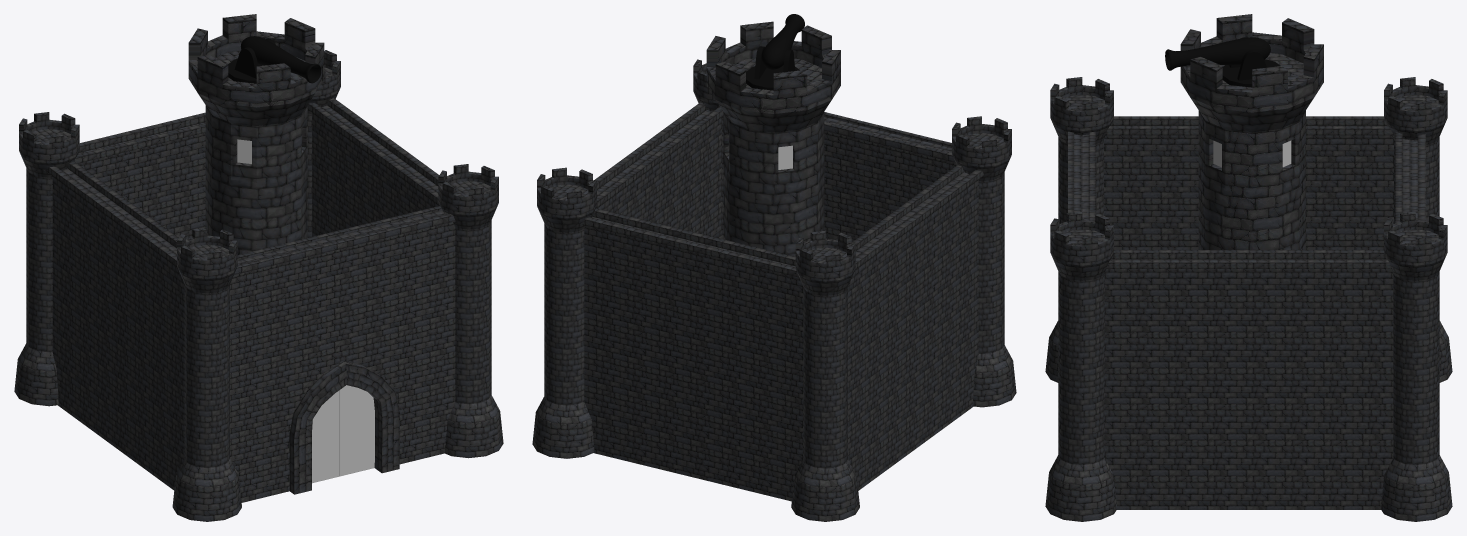
Rendered from maintower.FBX.
The picture shows the model from 3 angles, left to right: view 1: azimuth 30°, elevation 25°; view 2: azimuth 150°, elevation 25°; view 3: azimuth 270°, elevation 25°; orthographic projection. The views are drawn at different scales.
Parts seen in each view (by area): view 1: wall, Box001, Tube002, Tube001, Tube003, Box003, Box002, Tube005, arc, doorLeft, Tube004, Line001; view 2: Box002, Box001, Tube002, Tube005, Tube004, Box003, wall, Tube001, Line001, Tube003, Cylinder002; view 3: Box003, Box001, Tube002, Tube003, Tube004, Tube001, Tube005, Box002, wall, Line001, Line002, Cylinder002.
Part boxes in pixels (x1=…): wall: x1=230, y1=206, x2=455, y2=502; Box001: x1=47, y1=161, x2=184, y2=490; Tube002: x1=188, y1=14, x2=324, y2=254; Tube001: x1=172, y1=227, x2=241, y2=521; Tube003: x1=438, y1=164, x2=503, y2=458; Box003: x1=307, y1=98, x2=439, y2=236; Box002: x1=44, y1=112, x2=205, y2=239; Tube005: x1=14, y1=112, x2=79, y2=406; arc: x1=289, y1=361, x2=399, y2=494; doorLeft: x1=312, y1=385, x2=374, y2=483; Tube004: x1=307, y1=50, x2=340, y2=237; Line001: x1=240, y1=36, x2=321, y2=83; Box002: x1=582, y1=208, x2=802, y2=501; Box001: x1=848, y1=165, x2=983, y2=490; Tube002: x1=706, y1=21, x2=840, y2=256; Tube005: x1=791, y1=230, x2=859, y2=521; Tube004: x1=532, y1=167, x2=596, y2=458; Box003: x1=594, y1=102, x2=723, y2=238; wall: x1=824, y1=112, x2=956, y2=241; Tube001: x1=952, y1=116, x2=1016, y2=407; Line001: x1=761, y1=14, x2=804, y2=69; Tube003: x1=693, y1=59, x2=723, y2=238; Cylinder002: x1=746, y1=65, x2=799, y2=90; Box003: x1=1104, y1=250, x2=1393, y2=509; Box001: x1=1104, y1=116, x2=1393, y2=249; Tube002: x1=1180, y1=14, x2=1323, y2=249; Tube003: x1=1045, y1=211, x2=1116, y2=521; Tube004: x1=1381, y1=211, x2=1452, y2=521; Tube001: x1=1045, y1=77, x2=1113, y2=382; Tube005: x1=1384, y1=77, x2=1452, y2=382; Box002: x1=1395, y1=131, x2=1425, y2=223; wall: x1=1068, y1=131, x2=1095, y2=220; Line001: x1=1165, y1=37, x2=1270, y2=70; Line002: x1=1229, y1=37, x2=1266, y2=80; Cylinder002: x1=1222, y1=59, x2=1280, y2=87.
Bounding box in the file's own units: 515 × 581 × 535.
